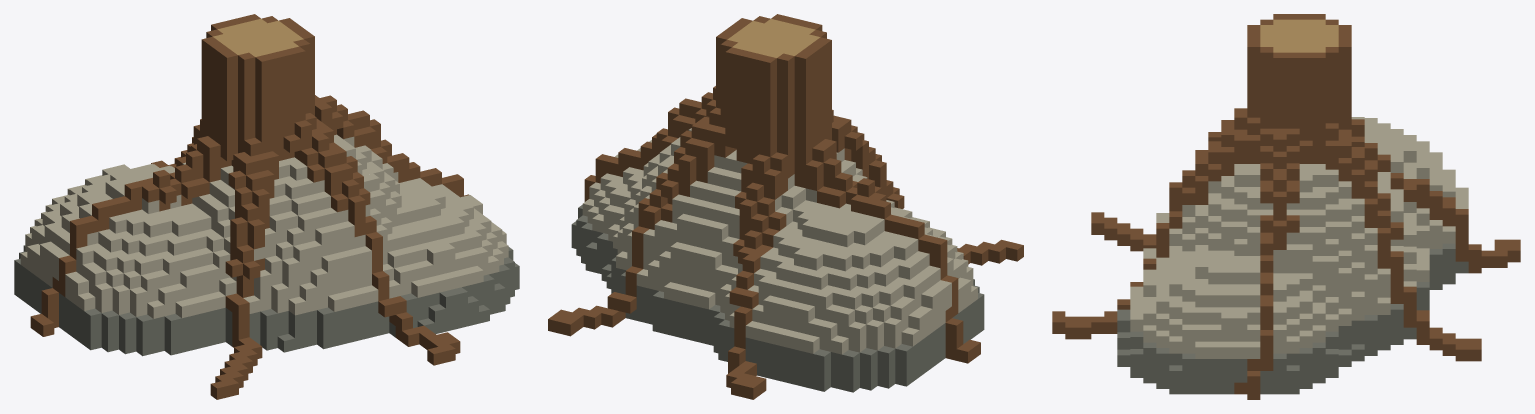
The model's file is visual-far.glb.
The picture shows the model from 3 angles, left to right: view 1: azimuth 30°, elevation 25°; view 2: azimuth 150°, elevation 25°; view 3: azimuth 270°, elevation 25°; orthographic projection. The views are drawn at different scales.
Visible parts, largest first — view 1: 乔木根脚与附岩根系视觉组件; view 2: 乔木根脚与附岩根系视觉组件; view 3: 乔木根脚与附岩根系视觉组件.
Boxes of the visible parts, box(x1,y1,x2,y2) form: 乔木根脚与附岩根系视觉组件: box(14, 14, 519, 399); 乔木根脚与附岩根系视觉组件: box(548, 14, 1023, 399); 乔木根脚与附岩根系视觉组件: box(1052, 14, 1520, 399).
Bounding box in the file's own units: 7.6 × 4.4 × 7.2.
4 materials, 4 textured.
